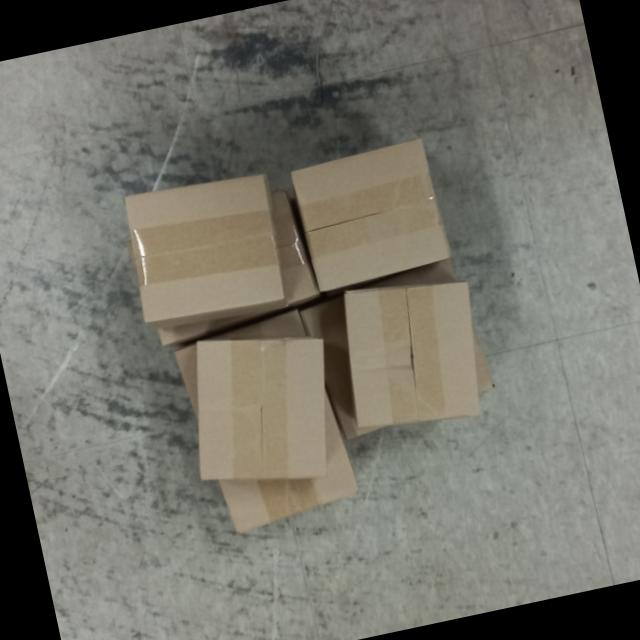box: (164, 304, 360, 511), (318, 256, 504, 446), (110, 158, 300, 340), (282, 130, 460, 296)
